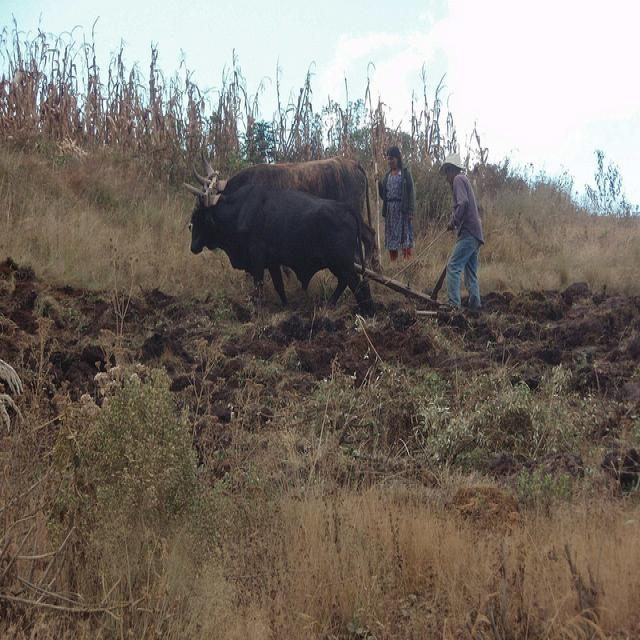cow: (188, 179, 367, 305), (191, 151, 374, 267)
